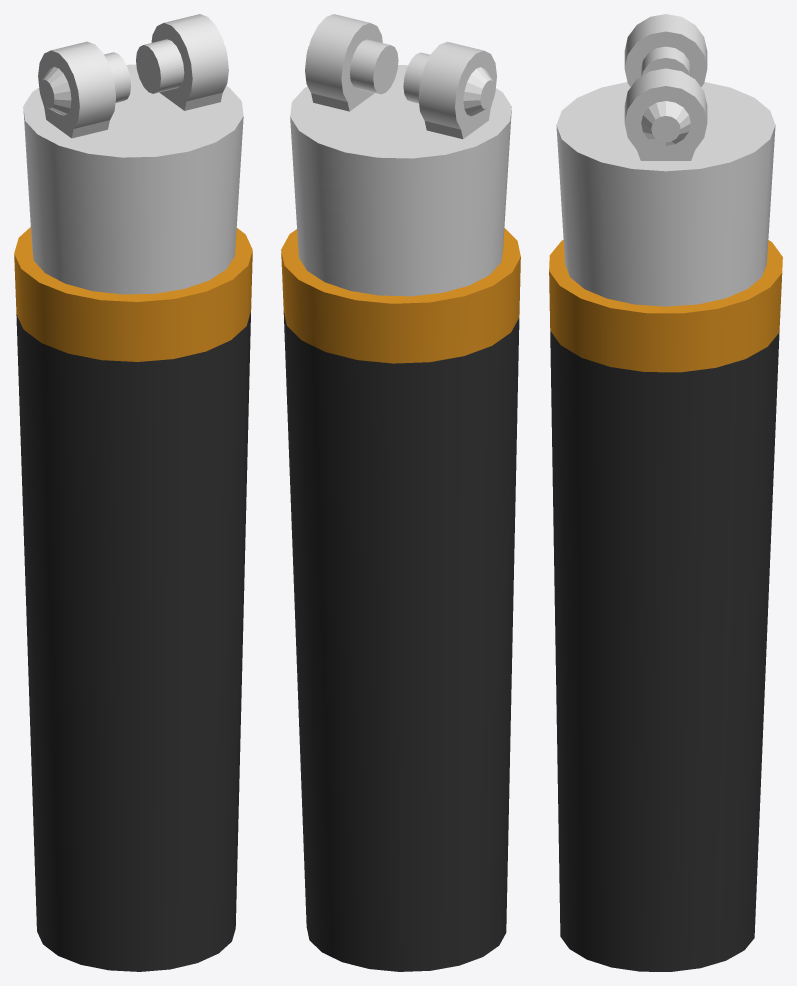
The model's file is ZenyattaLeftFoot2.fbx.
3 renders of one model, left to right at view 1: azimuth 30°, elevation 25°; view 2: azimuth 150°, elevation 25°; view 3: azimuth 270°, elevation 25°, orthographic.
Visible parts, largest first — view 1: pPipe33; view 2: pPipe33; view 3: pPipe33.
Boxes of the visible parts, left/top/right/bottom form: pPipe33: left=14, top=14, right=252, bottom=971; pPipe33: left=281, top=14, right=520, bottom=971; pPipe33: left=549, top=14, right=782, bottom=971.
Size of the model in its own units: 5.15 by 21.42 by 5.15.
